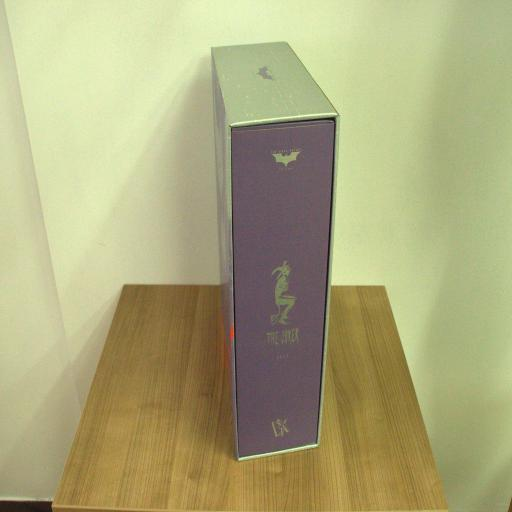Joker: (210, 40, 340, 458)
